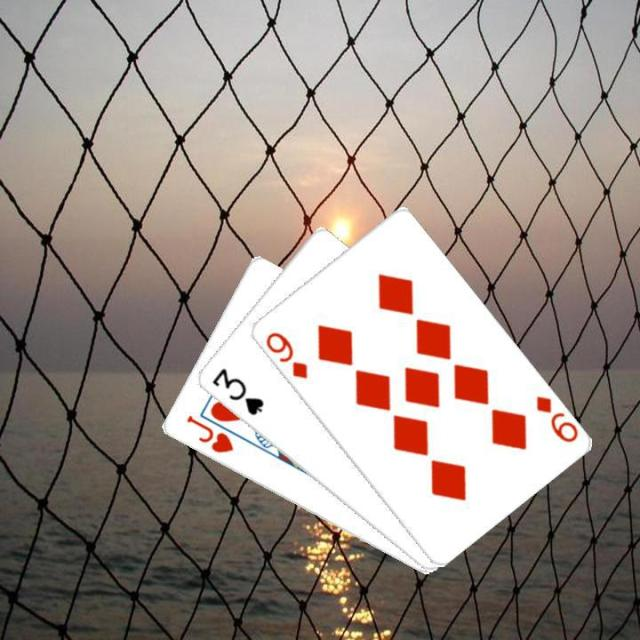3S: (207, 364, 266, 418)
9D: (260, 328, 310, 380), (530, 392, 580, 444)
JH: (181, 412, 235, 455)
